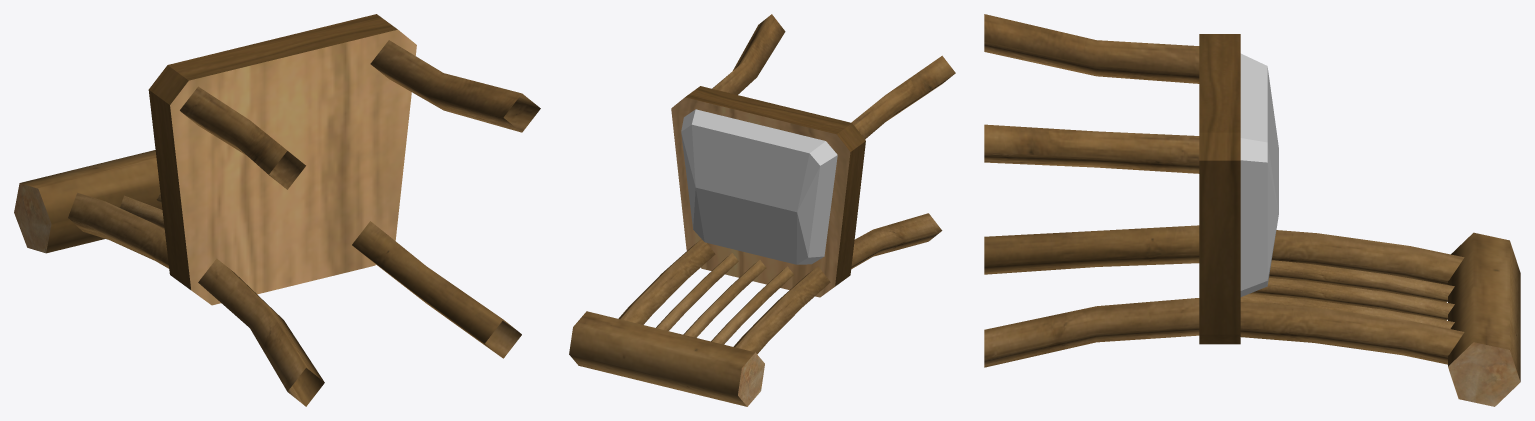
The model's file is Log_Chair_B.fbx.
The picture shows the model from 3 angles, left to right: view 1: azimuth 30°, elevation 25°; view 2: azimuth 150°, elevation 25°; view 3: azimuth 270°, elevation 25°; orthographic projection. The views are drawn at different scales.
Parts seen in each view (by area): view 1: Log_Chair_B; view 2: Log_Chair_B; view 3: Log_Chair_B.
Boxes of the visible parts, left/top/right/bottom form: Log_Chair_B: left=14, top=14, right=540, bottom=406; Log_Chair_B: left=569, top=14, right=955, bottom=406; Log_Chair_B: left=984, top=14, right=1520, bottom=406.
Bounding box in the file's own units: 5.69 × 5.82 × 10.05.
